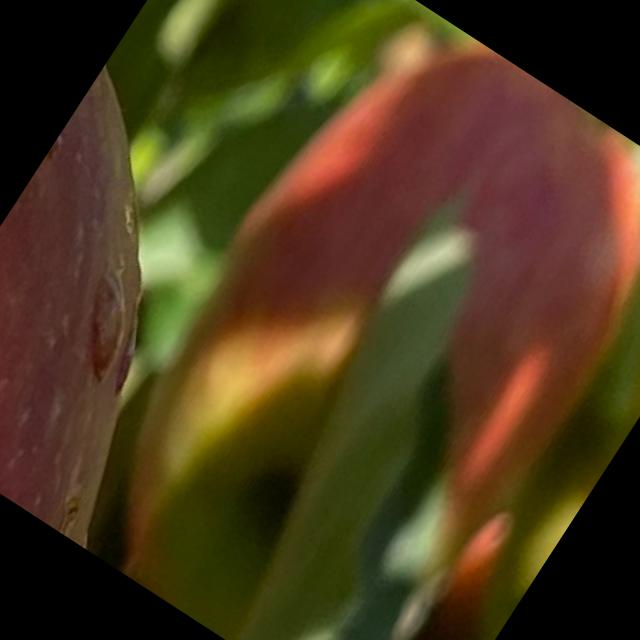Apples: (48, 0, 639, 639), (0, 60, 317, 549)
